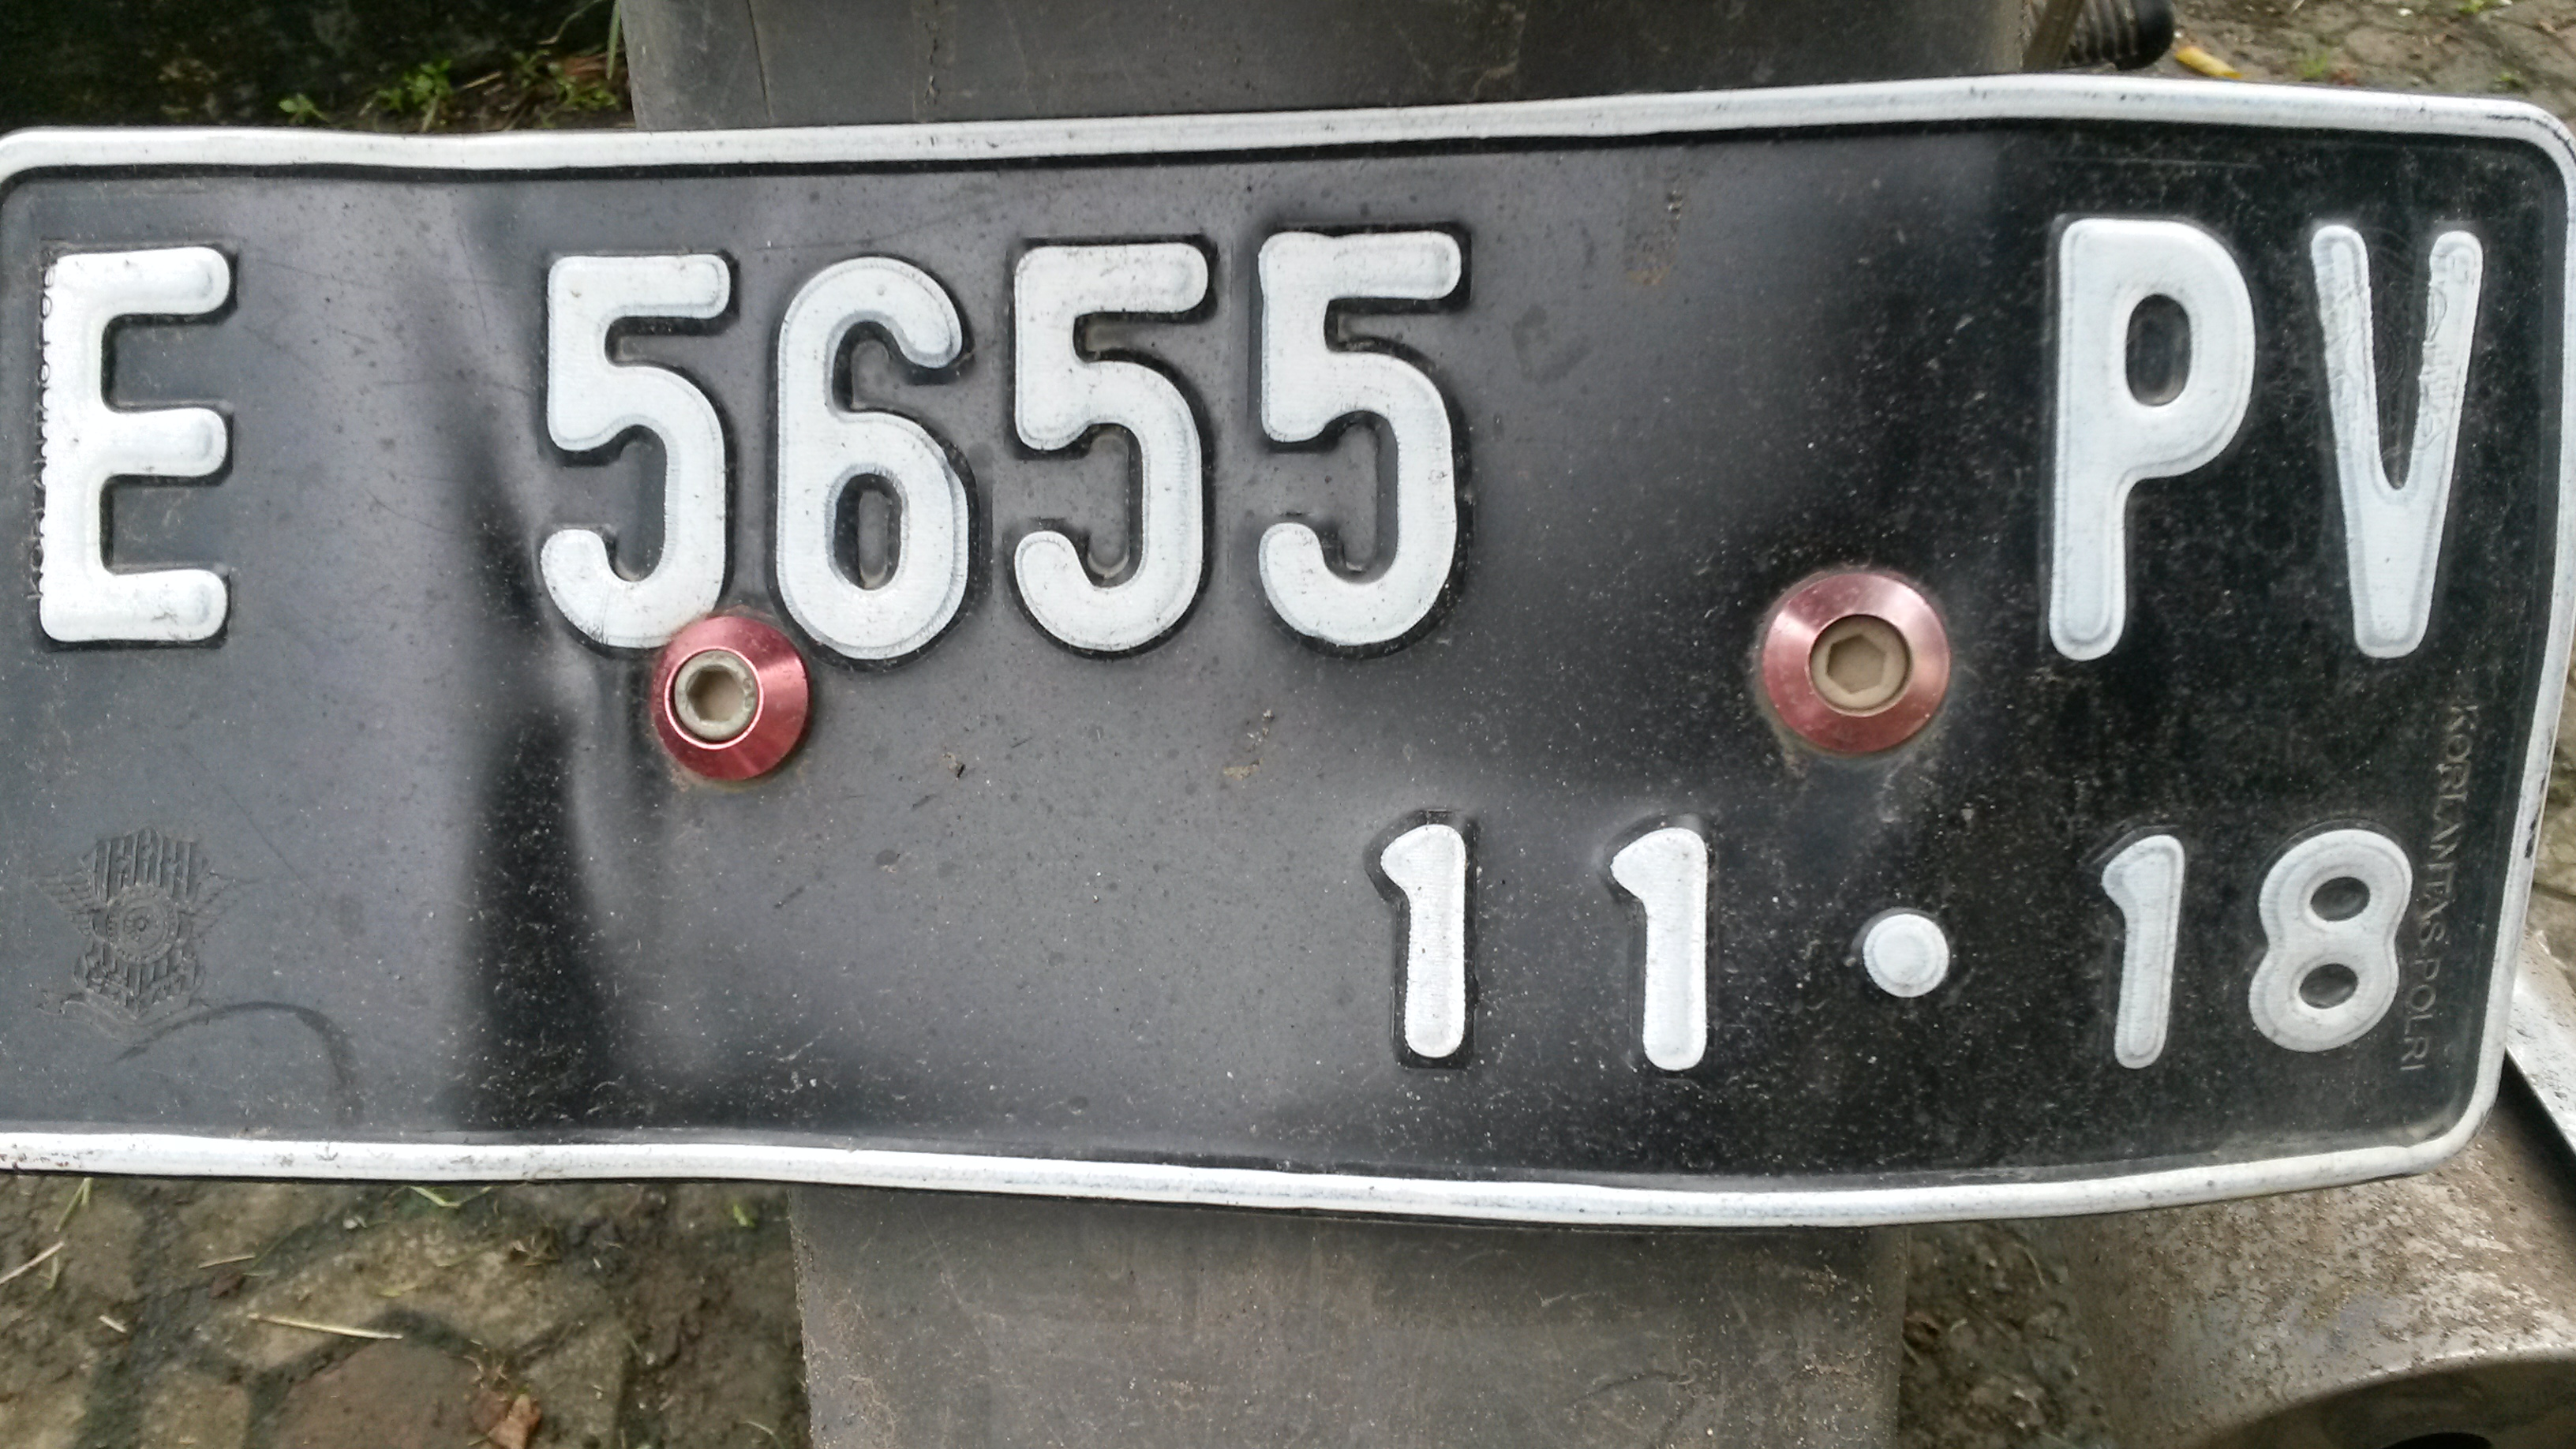plate: (5, 113, 2576, 1222)
